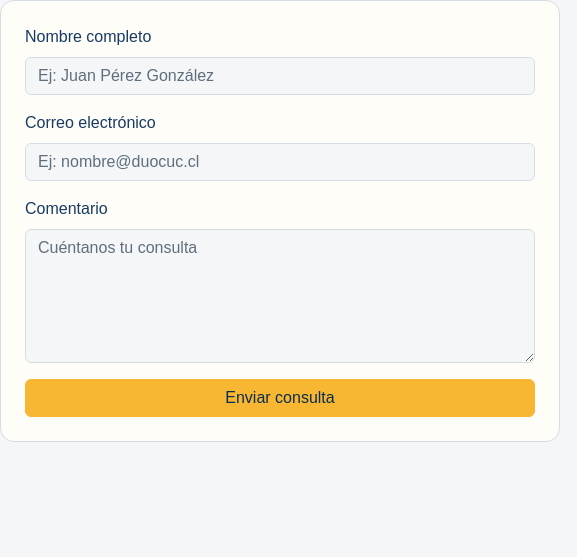
ContactoContainer › muestra el mensaje de éxito y limpia el formulario con datos válidos
The image size is (577, 557).
In the field labelled "Nombre completo": x=280, y=76 [25,57,535,95], type "Ana Pérez"
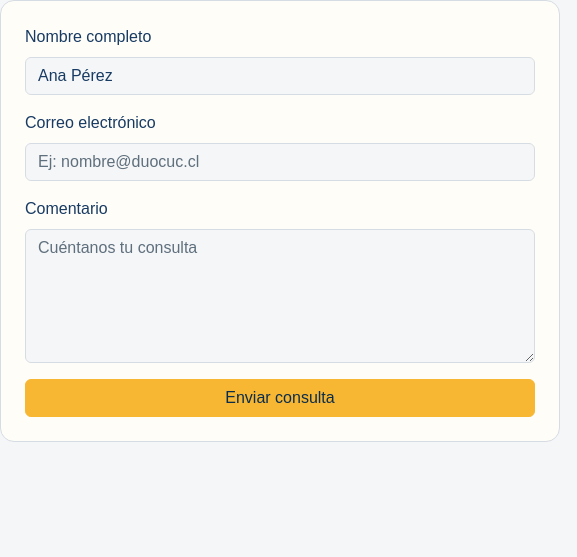
In the field labelled "Correo electrónico": x=280, y=162 [25,143,535,181], type "ana@duoc.cl"
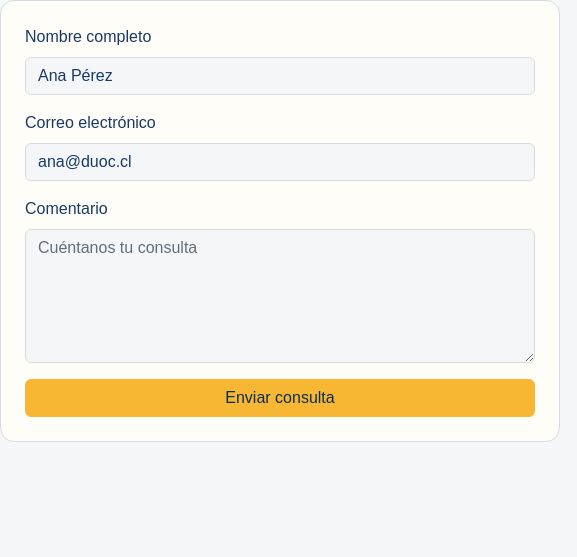
In the text box labelled "Comentario": x=280, y=296 [25,229,535,363], type "Quiero cotizar cemento."
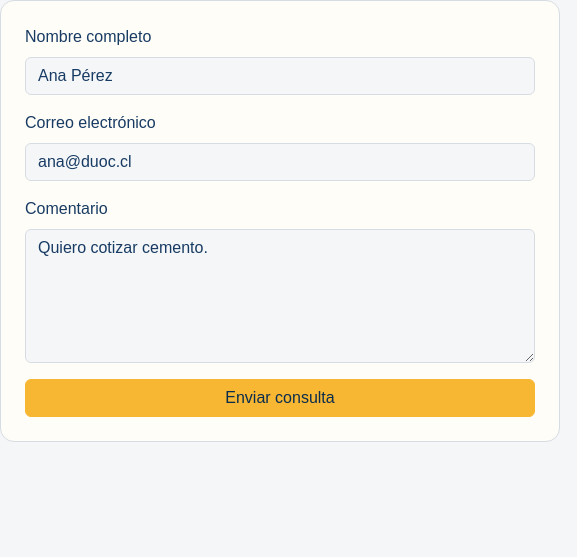
Click the button "Enviar consulta": x=280, y=398 [25,379,535,417]
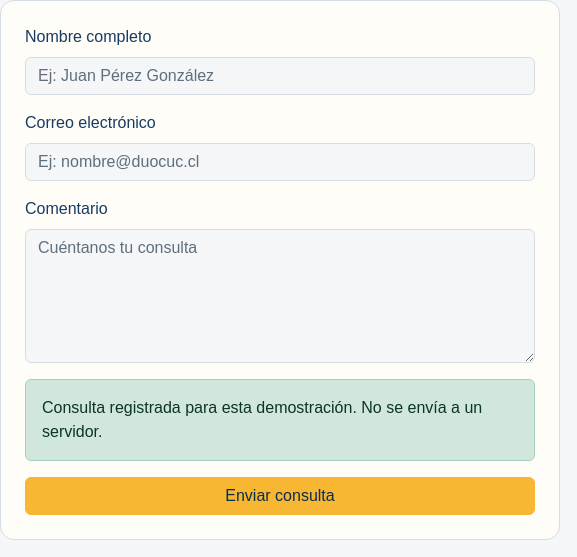
Now the text "Consulta registrada para esta demostración. No se envía a un servidor." is shown, box [25,379,535,461]
Now the field labelled "Nombre completo" is empty, box [25,57,535,95]
